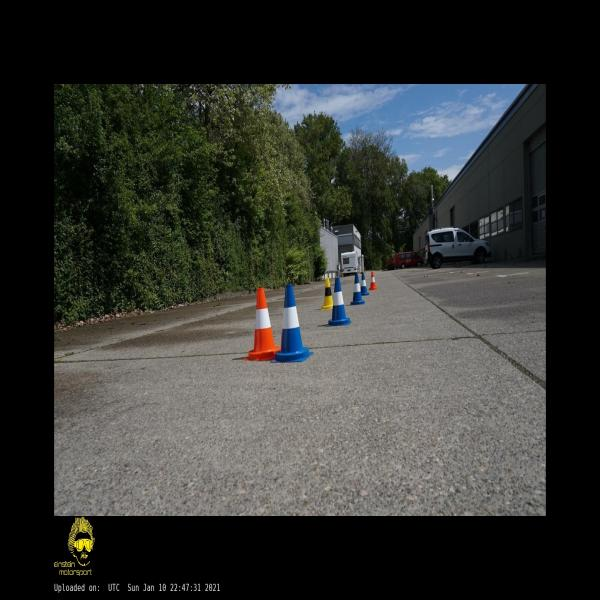blue_cone: (271, 284, 314, 363), (326, 278, 351, 326), (350, 275, 365, 305), (361, 273, 369, 295)
orange_cone: (242, 288, 280, 360), (369, 272, 378, 290)
yellow_cone: (321, 278, 334, 309)
